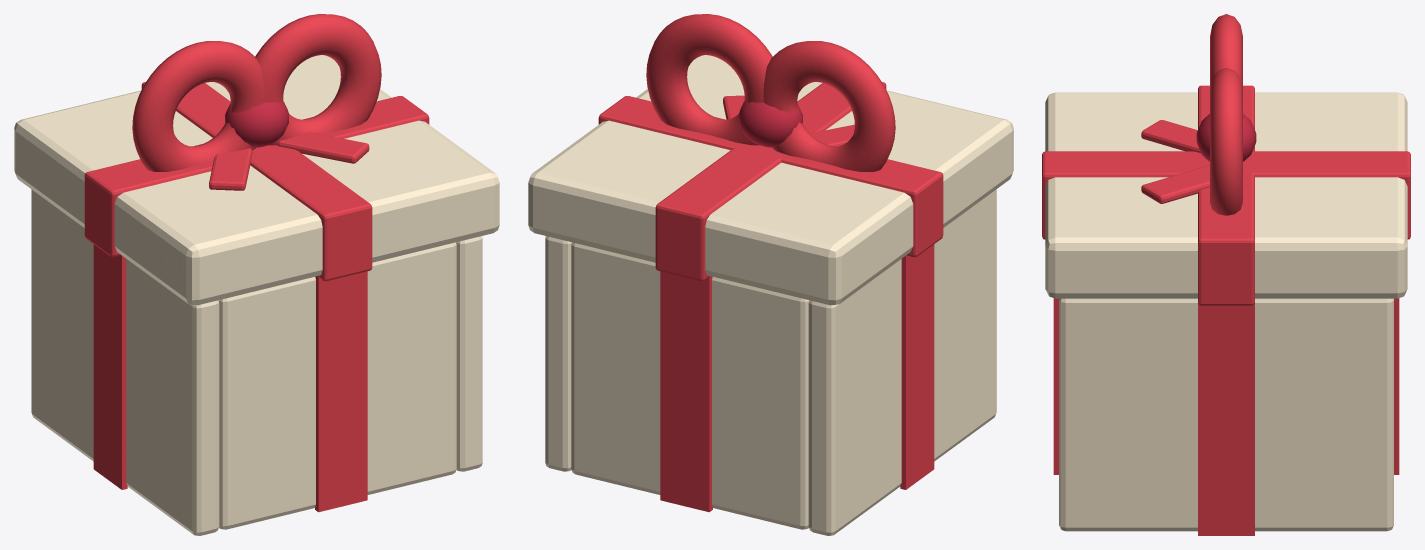
File: gift_crate_reveal.glb
The picture shows the model from 3 angles, left to right: view 1: azimuth 30°, elevation 25°; view 2: azimuth 150°, elevation 25°; view 3: azimuth 270°, elevation 25°; orthographic projection.
Parts seen in each view (by area): view 1: Crate body / hollow, Crate lid / hinged; view 2: Crate body / hollow, Crate lid / hinged; view 3: Crate body / hollow, Crate lid / hinged.
Boxes of the visible parts, <box> form: Crate body / hollow: <box>31,189,482,535</box>; Crate lid / hinged: <box>14,14,499,305</box>; Crate body / hollow: <box>545,189,996,535</box>; Crate lid / hinged: <box>528,14,1013,305</box>; Crate body / hollow: <box>1053,298,1399,535</box>; Crate lid / hinged: <box>1042,14,1410,305</box>.
Size of the model in its own units: 1.1 by 1.36 by 1.1.
